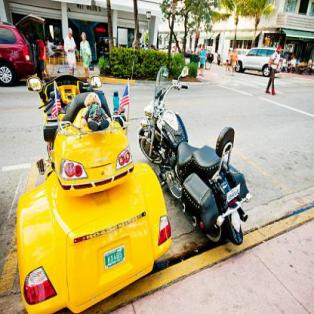Motocicleta: (138, 64, 258, 254)
